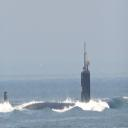submarine: (5, 40, 110, 112)
